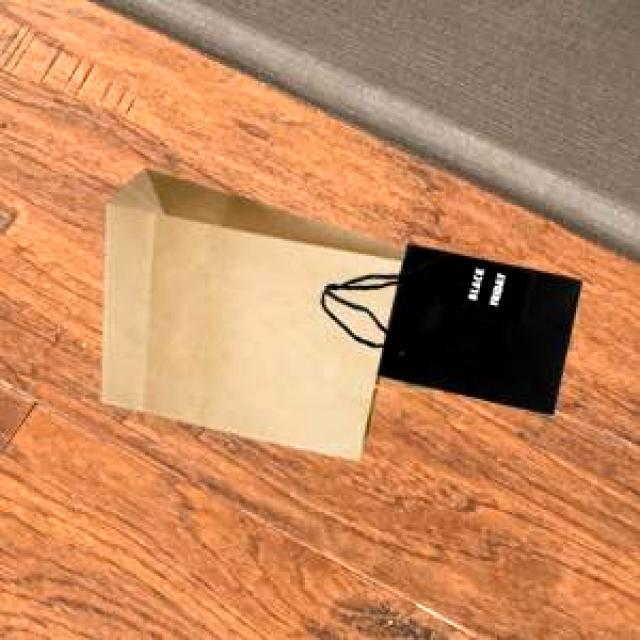Paper_Bag: (99, 165, 402, 458), (317, 240, 578, 413)
